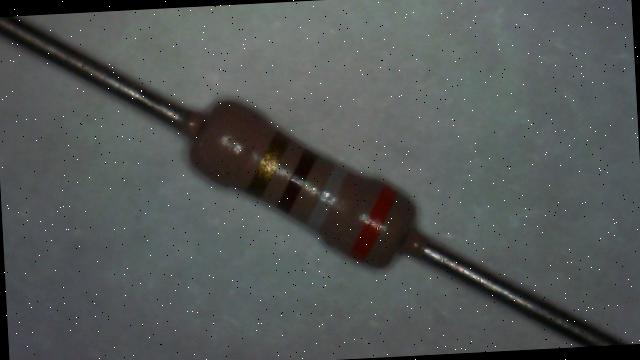brown: (274, 152, 320, 210)
gold: (250, 139, 284, 196)
orange: (345, 182, 401, 262)
resistor: (165, 70, 455, 292)
white: (306, 165, 350, 230)
